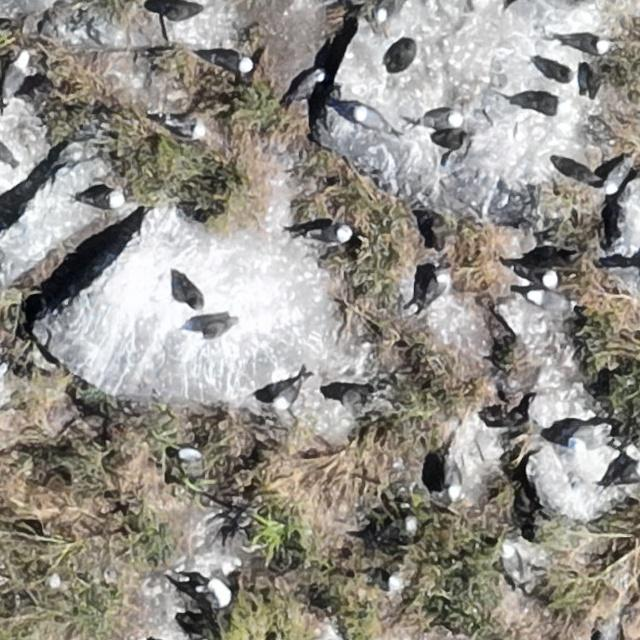umineko: (4, 52, 30, 106), (193, 577, 234, 610), (286, 69, 328, 101), (516, 263, 560, 287), (569, 426, 609, 452), (421, 273, 448, 308), (503, 543, 523, 584), (210, 53, 251, 72), (380, 516, 418, 536), (537, 61, 572, 82), (563, 37, 606, 54), (167, 119, 203, 139), (530, 292, 570, 310), (423, 112, 462, 130), (311, 226, 350, 244), (356, 108, 386, 130), (604, 164, 626, 192), (84, 193, 116, 209), (274, 386, 296, 409), (446, 465, 461, 498), (528, 98, 558, 113), (180, 446, 202, 461), (0, 141, 11, 161)
